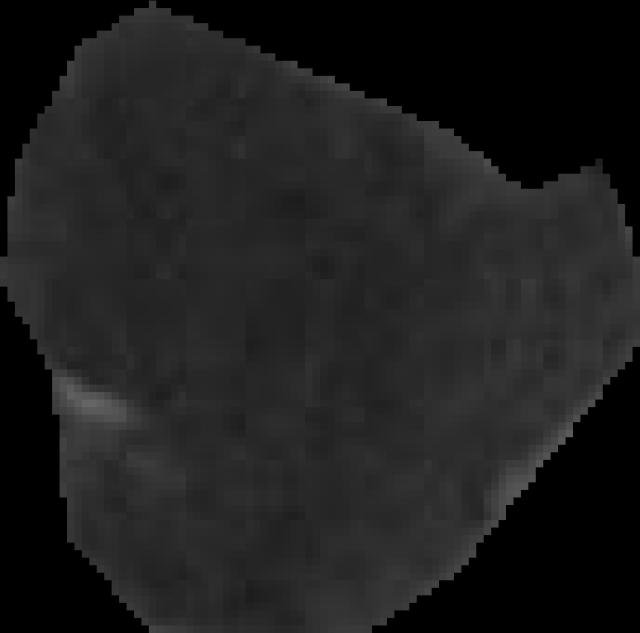tumor_moderate_chance: (0, 1, 640, 633)
